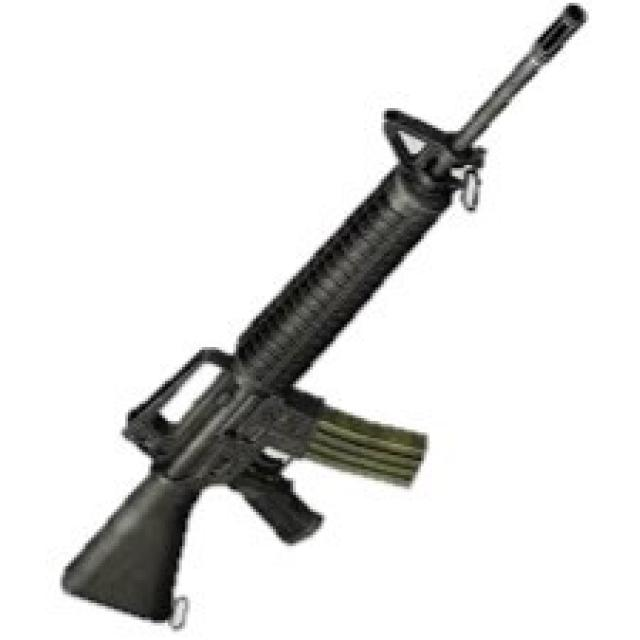rifle: (51, 1, 594, 634)
